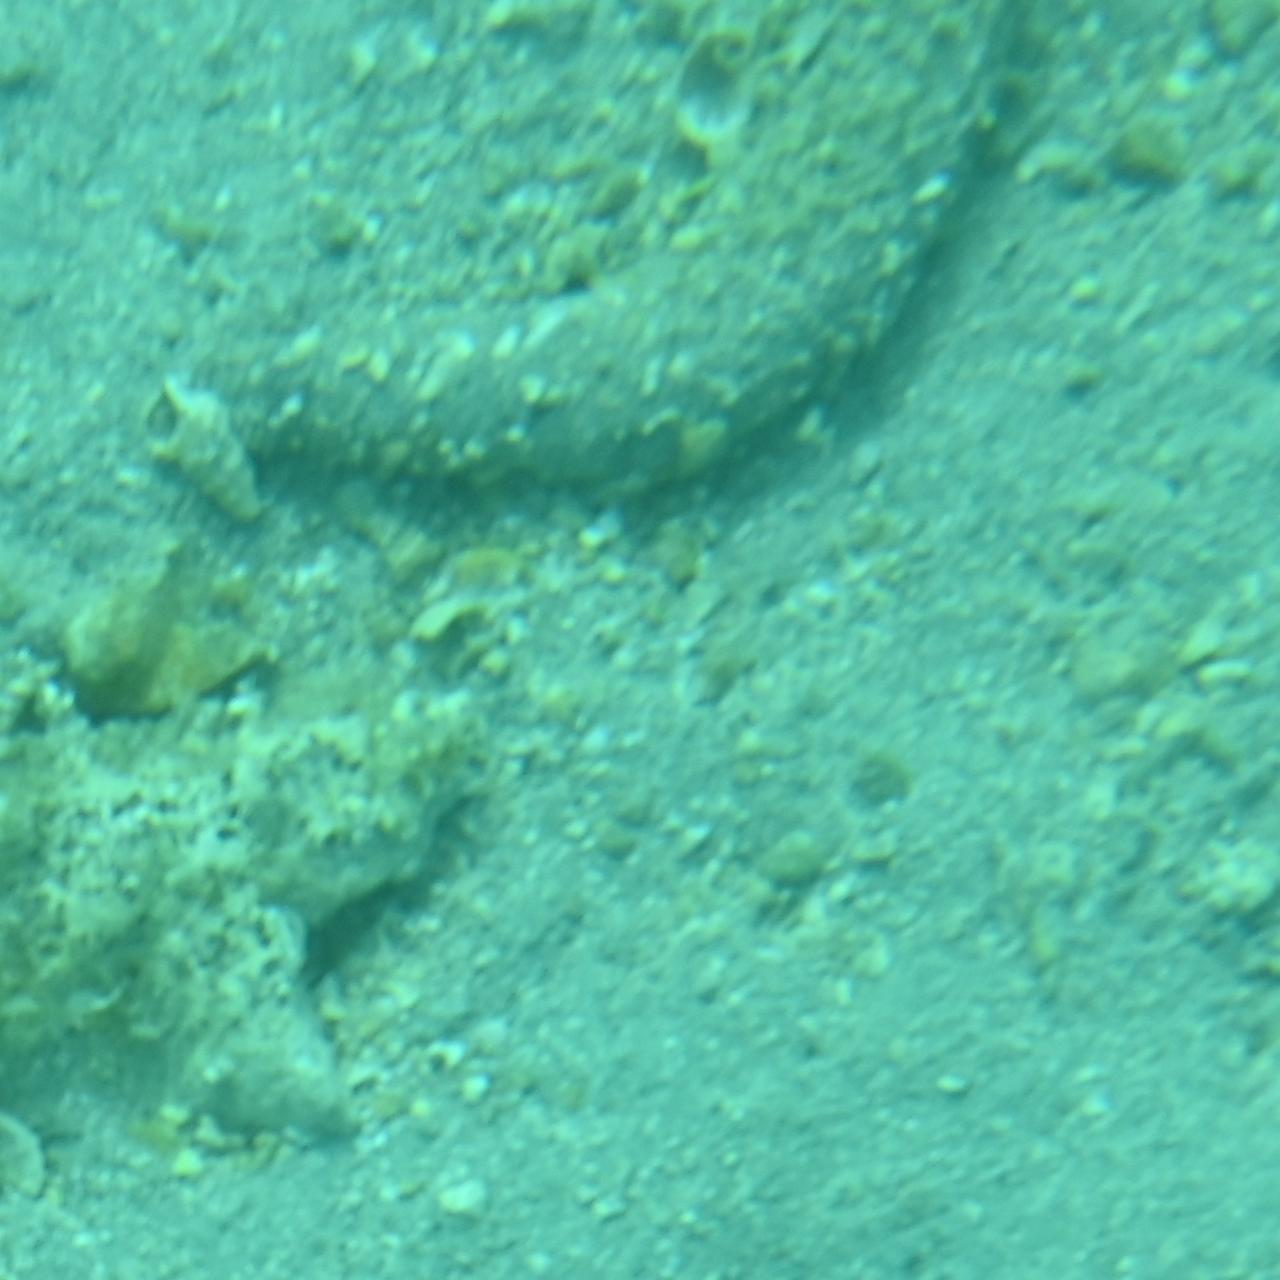Holothuria tubulosa: (222, 0, 1058, 535)
